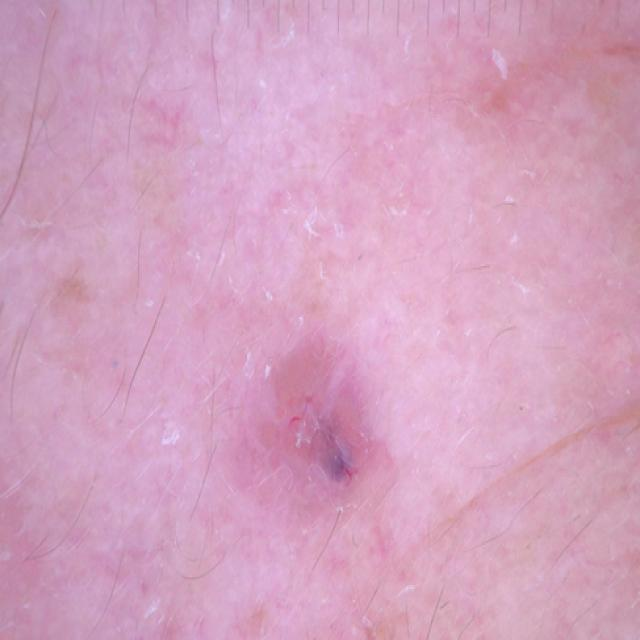Carcinoma: (208, 280, 498, 608)
